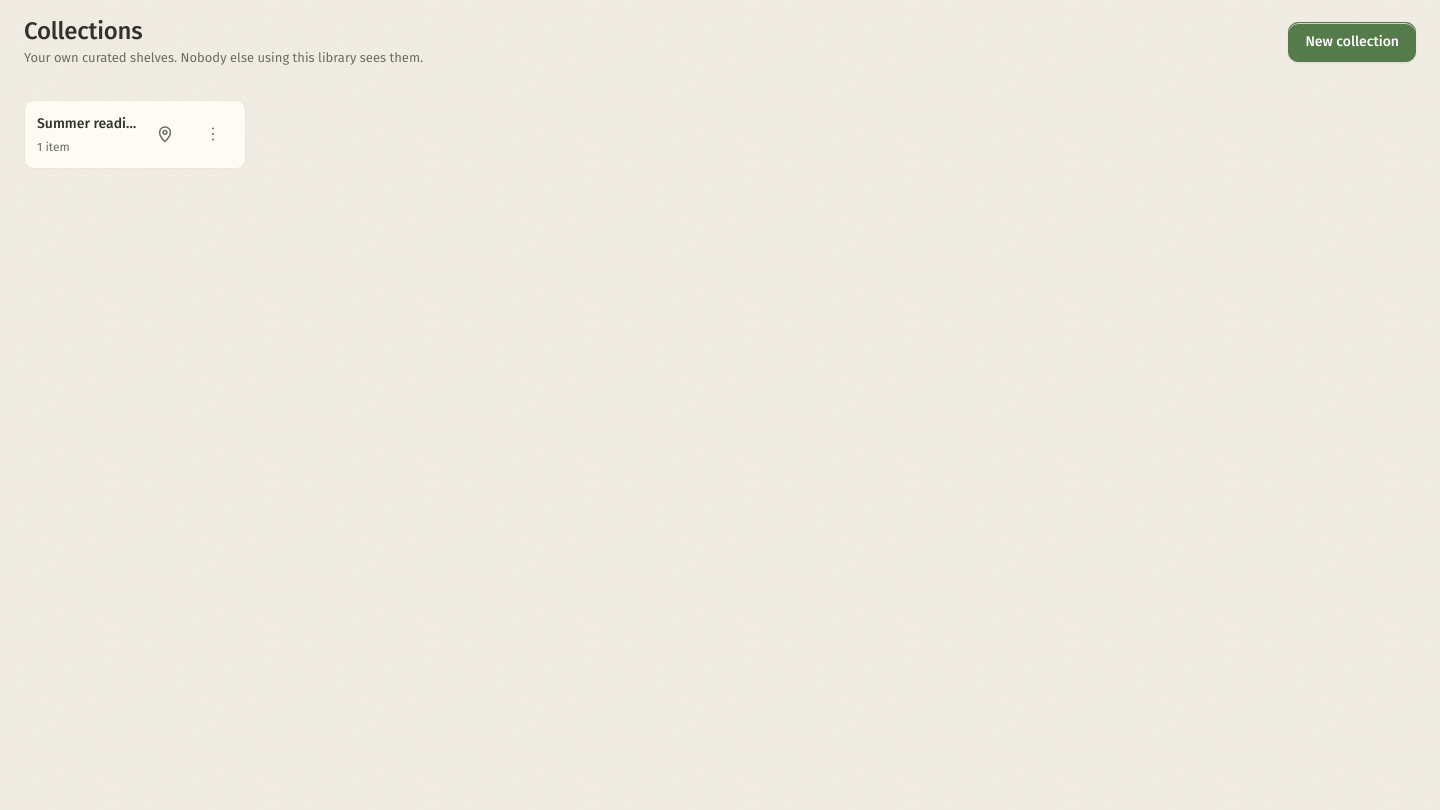
Scenario: CollectionsPage › does nothing when the delete dialog is cancelled
Expected: the list with test id "collections-grid" is shown, [24,100,246,168]
Click the button with test id "open-collection-Summer reading".
click(87, 134)  # box [37,112,137,156]
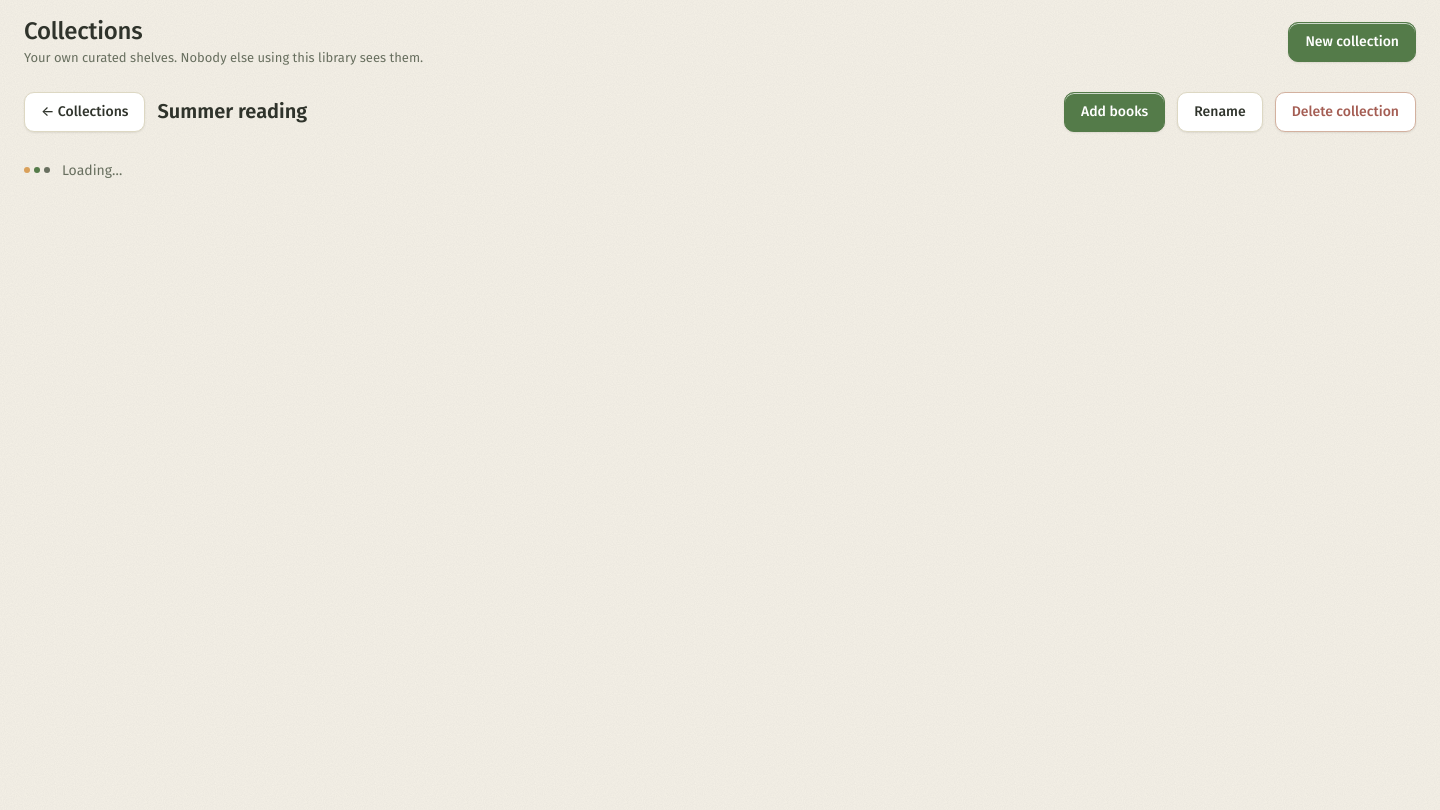
Result: the element with test id "collection-detail" is shown at [24,92,1416,192]
Click the button "Delete collection".
click(1345, 112)  # box [1275,92,1416,132]
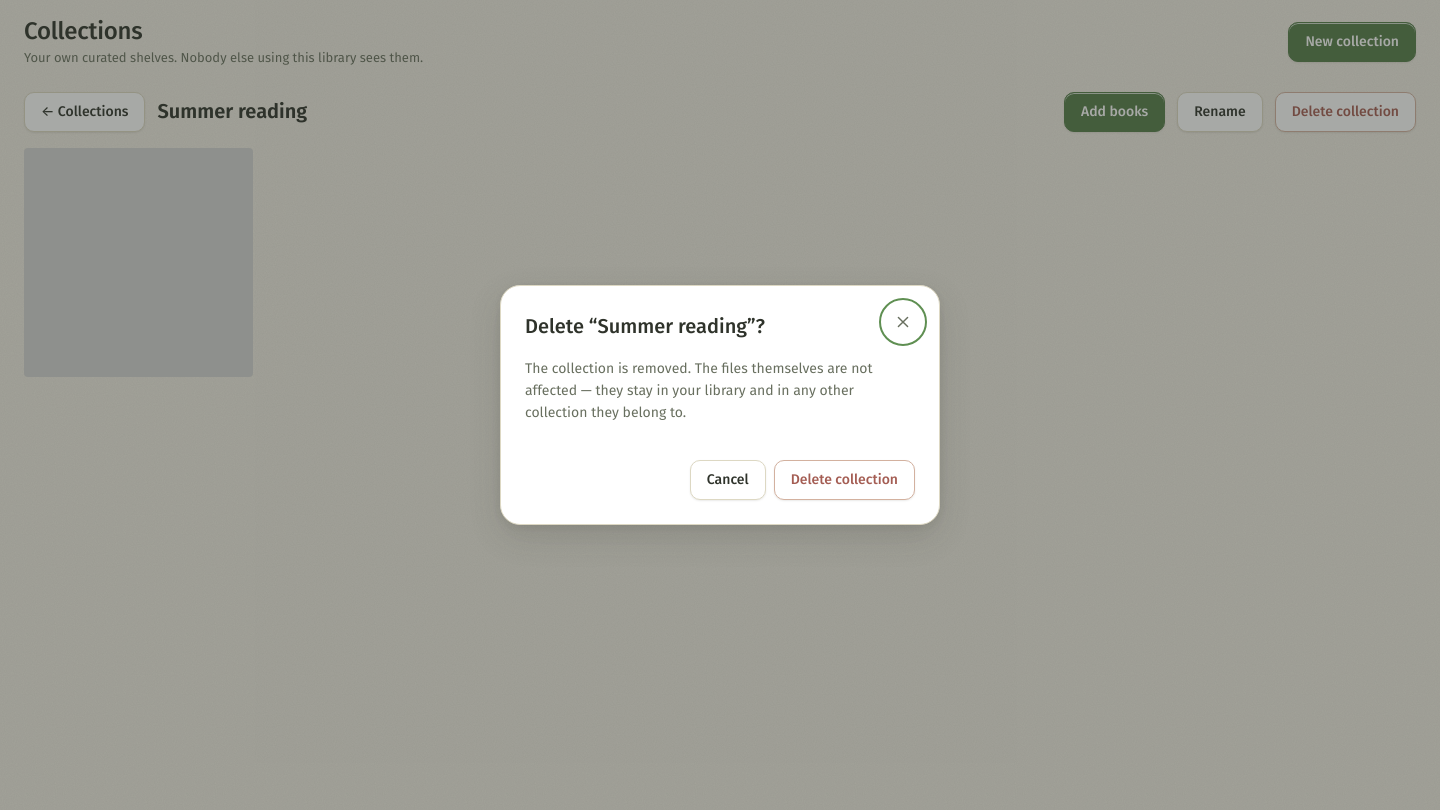
Click the button "Cancel".
click(728, 480)  # box [690,460,766,500]
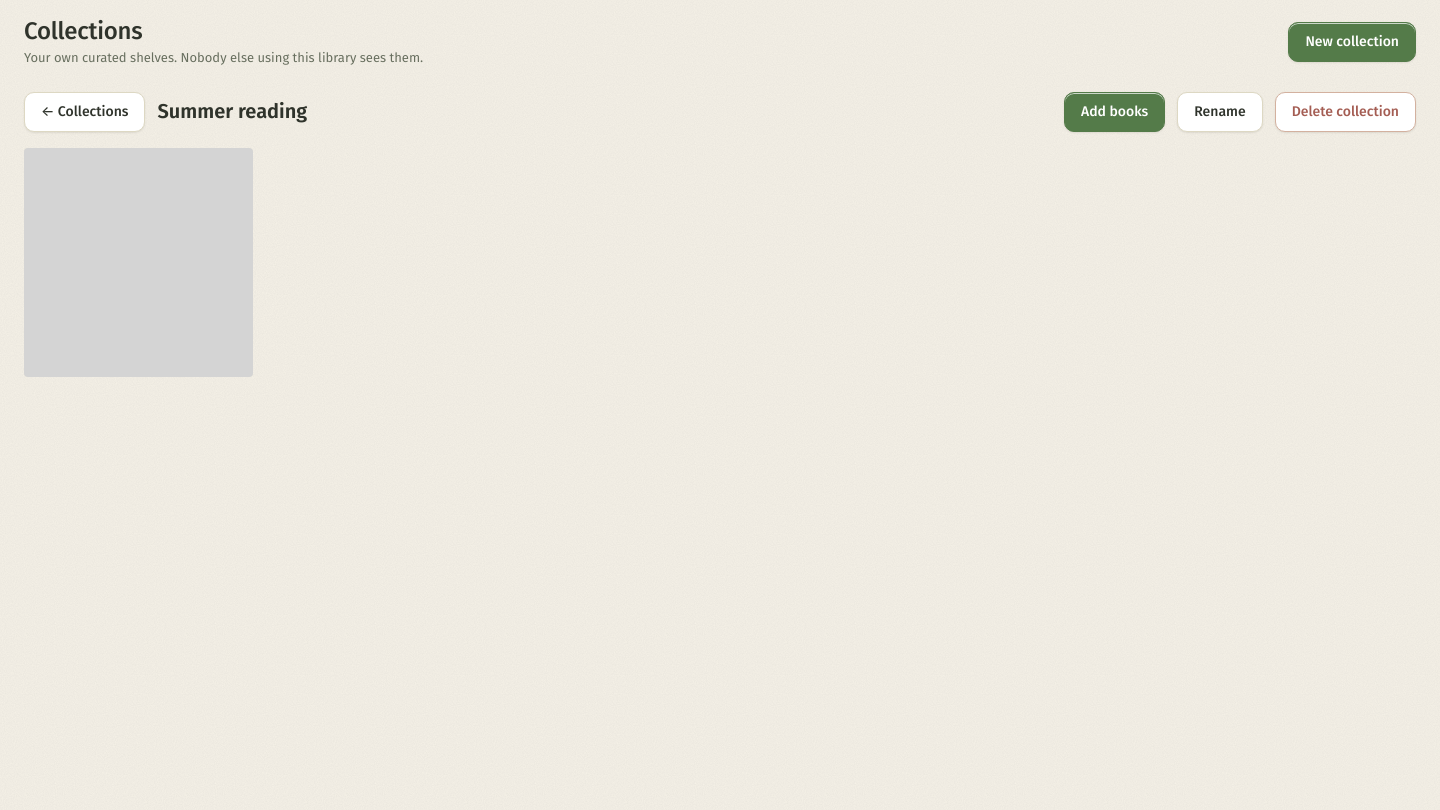
Result: the element with test id "collection-detail" is shown at [24,92,1416,381]
Result: the dialog with test id "delete-collection-dialog" is gone
